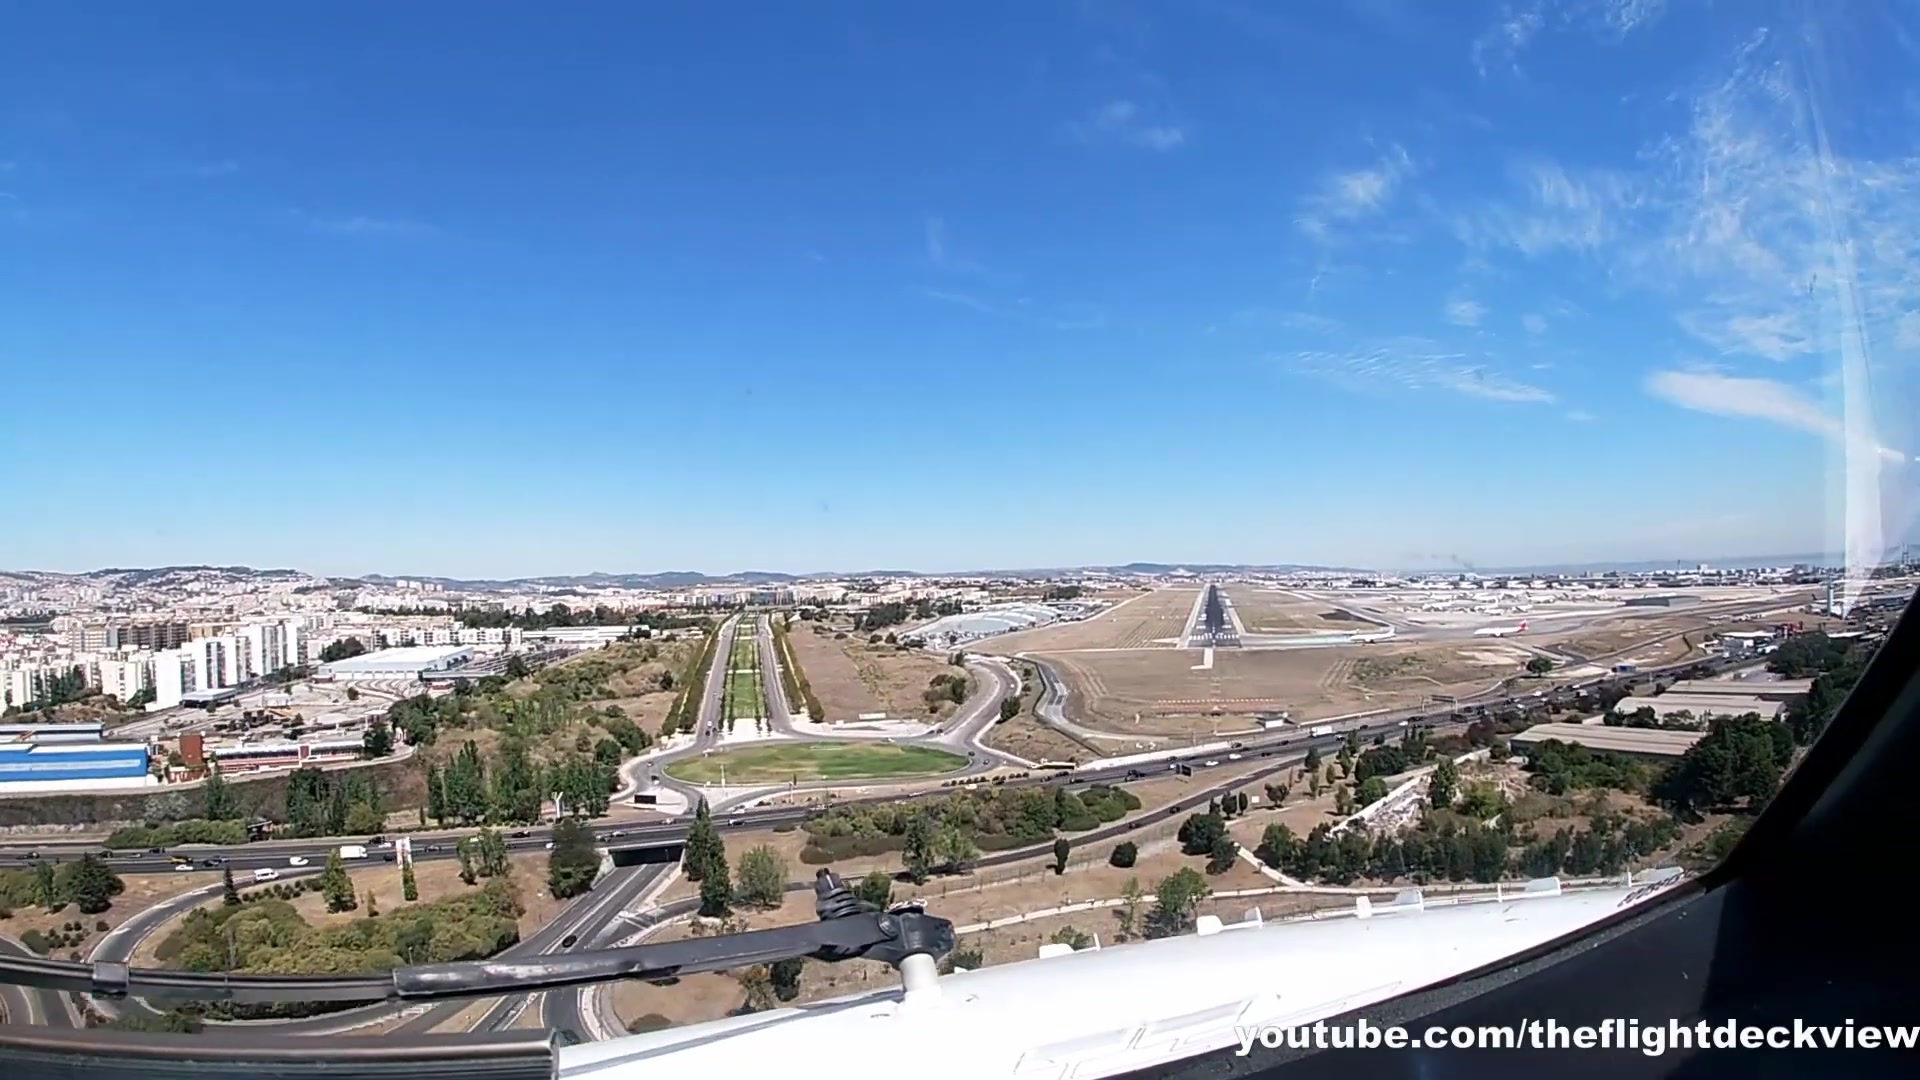entrance: (1185, 632, 1242, 641)
runway: (1174, 583, 1251, 651)
